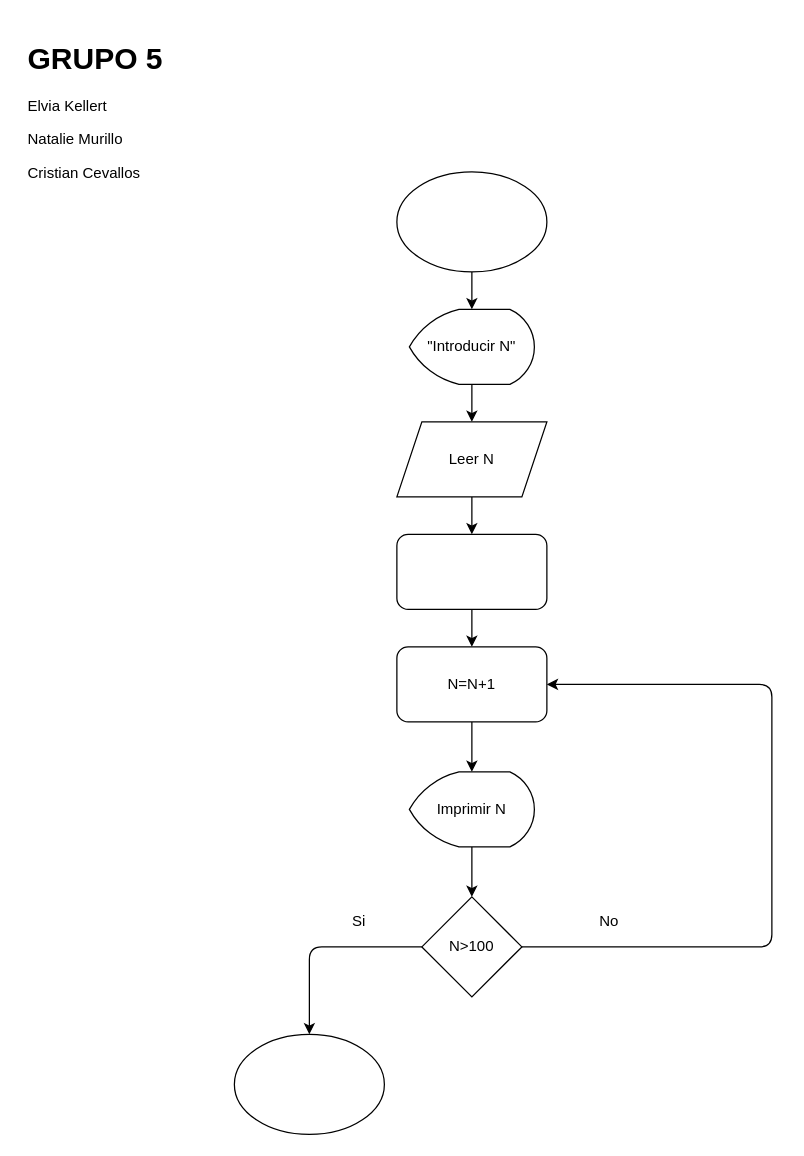
The diagram is 804 pixels wide and 1156 high, and some of its shapes have lost their labels. The shapes that lost their labels are listed below. From the top down, each one's box as (x1, y1, x2, y2) in pixels, then its label:
(396, 171, 547, 272): Inicio
(396, 533, 547, 609): N=0
(233, 1033, 384, 1134): Fin
